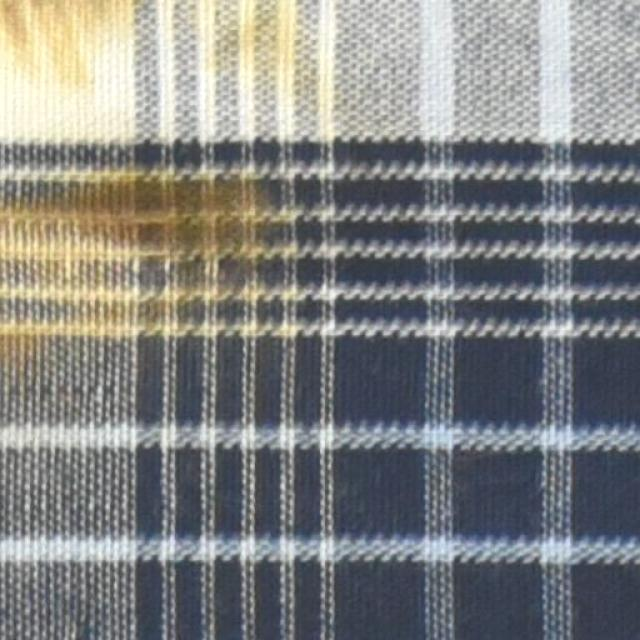Stain: (0, 148, 287, 423), (3, 2, 316, 98)
